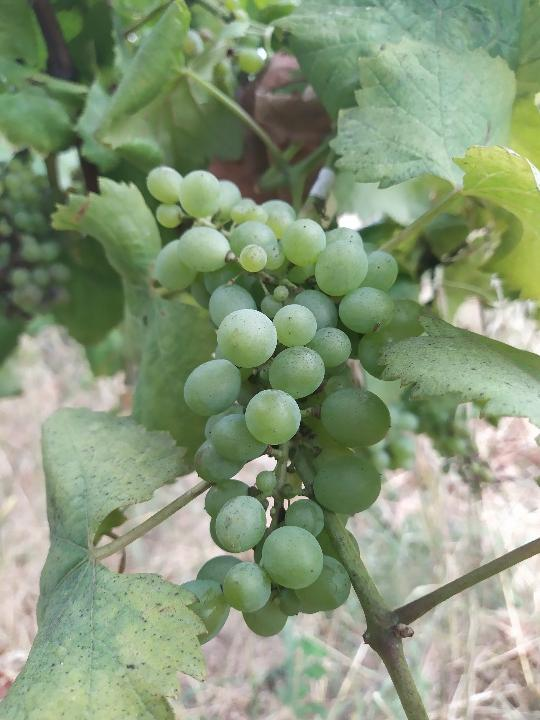grape: (143, 163, 424, 640)
